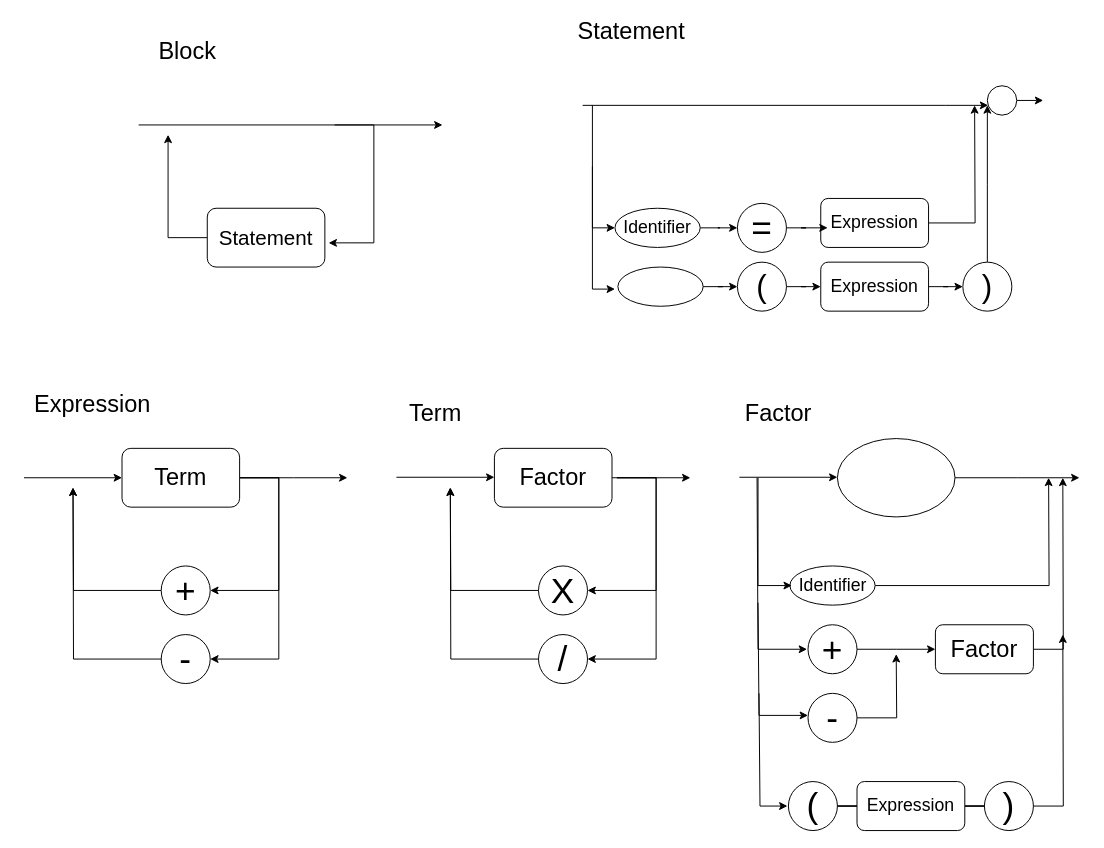
This 1104x848 diagram has some shape labels left out. Each missing label, with the box of its shape:
\n: (986, 85, 1017, 115)
num: (836, 438, 955, 517)
Print: (617, 266, 703, 306)
